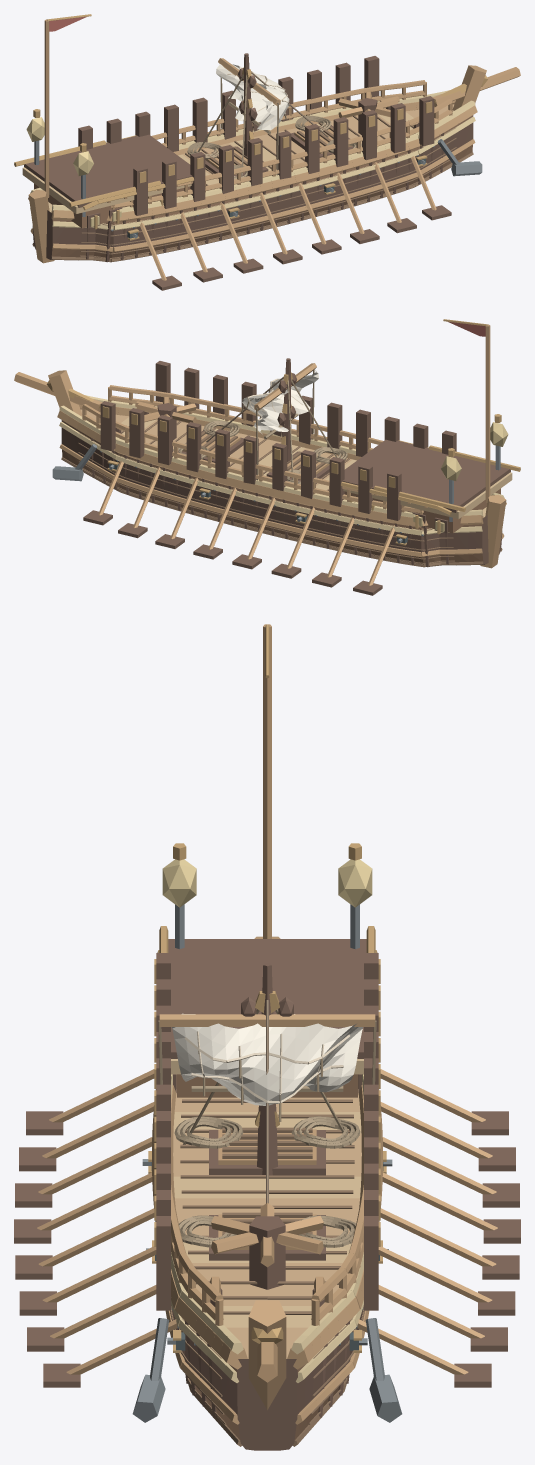
Rendered from sekibune-v5-mobile.glb.
The picture shows the model from 3 angles, top to bottom: view 1: azimuth 30°, elevation 25°; view 2: azimuth 150°, elevation 25°; view 3: azimuth 270°, elevation 25°; orthographic projection. The views are drawn at different scales.
Parts seen in each view (by area): view 1: sekibune_ornament_darkwood, sekibune_hull_wood, sekibune_hull_darkwood, sekibune_deck_darkwood, sekibune_hull_pale, sekibune_railings_wood, sekibune_hull_seam, sekibune_hull_hull, sekibune_oars_wood, sekibune_oars_darkwood, sekibune_sails_ivory, sekibune_deck_bronze (+17 smaller); view 2: sekibune_ornament_darkwood, sekibune_hull_wood, sekibune_hull_darkwood, sekibune_deck_darkwood, sekibune_railings_wood, sekibune_hull_pale, sekibune_hull_seam, sekibune_hull_hull, sekibune_oars_wood, sekibune_oars_darkwood, sekibune_sails_ivory, sekibune_deck_bronze (+17 smaller); view 3: sekibune_oars_wood, sekibune_oars_darkwood, sekibune_deck_darkwood, sekibune_hull_deck, sekibune_sails_ivory, sekibune_ornament_darkwood, sekibune_hull_wood, sekibune_hull_darkwood, sekibune_hull_seam, sekibune_hull_decklight, sekibune_fittings_darkwood, sekibune_fittings_rope (+13 smaller).
Boxes of the visible parts, left/top/right/bottom form: sekibune_ornament_darkwood: left=78, top=56, right=434, bottom=215; sekibune_hull_wood: left=28, top=65, right=520, bottom=263; sekibune_hull_darkwood: left=32, top=122, right=473, bottom=262; sekibune_deck_darkwood: left=24, top=134, right=192, bottom=228; sekibune_hull_pale: left=30, top=90, right=475, bottom=230; sekibune_railings_wood: left=111, top=80, right=452, bottom=209; sekibune_hull_seam: left=32, top=115, right=473, bottom=262; sekibune_hull_hull: left=51, top=103, right=473, bottom=259; sekibune_oars_wood: left=140, top=156, right=436, bottom=280; sekibune_oars_darkwood: left=152, top=205, right=451, bottom=290; sekibune_sails_ivory: left=216, top=64, right=289, bottom=130; sekibune_deck_bronze: left=14, top=135, right=193, bottom=229; sekibune_ornament_darkwood: left=100, top=361, right=456, bottom=520; sekibune_hull_wood: left=14, top=370, right=506, bottom=568; sekibune_hull_darkwood: left=61, top=427, right=502, bottom=567; sekibune_deck_darkwood: left=342, top=439, right=510, bottom=533; sekibune_railings_wood: left=82, top=385, right=423, bottom=514; sekibune_hull_pale: left=59, top=395, right=504, bottom=535; sekibune_hull_seam: left=61, top=420, right=502, bottom=567; sekibune_hull_hull: left=61, top=408, right=483, bottom=564; sekibune_oars_wood: left=98, top=461, right=394, bottom=585; sekibune_oars_darkwood: left=83, top=510, right=382, bottom=595; sekibune_sails_ivory: left=242, top=369, right=318, bottom=434; sekibune_deck_bronze: left=341, top=440, right=520, bottom=534; sekibune_oars_wood: left=37, top=1069, right=497, bottom=1374; sekibune_oars_darkwood: left=14, top=1111, right=520, bottom=1387; sekibune_deck_darkwood: left=168, top=939, right=366, bottom=1092; sekibune_hull_deck: left=173, top=1089, right=361, bottom=1358; sekibune_sails_ivory: left=172, top=1013, right=362, bottom=1105; sekibune_ornament_darkwood: left=156, top=953, right=378, bottom=1310; sekibune_hull_wood: left=152, top=936, right=382, bottom=1424; sekibune_hull_darkwood: left=171, top=1305, right=363, bottom=1450; sekibune_hull_seam: left=170, top=1099, right=364, bottom=1446; sekibune_hull_decklight: left=173, top=1112, right=361, bottom=1327; sekibune_fittings_darkwood: left=209, top=1130, right=325, bottom=1306; sekibune_fittings_rope: left=174, top=1116, right=360, bottom=1247.
Bounding box in the file's own units: 39.85 × 18.87 × 19.06.
